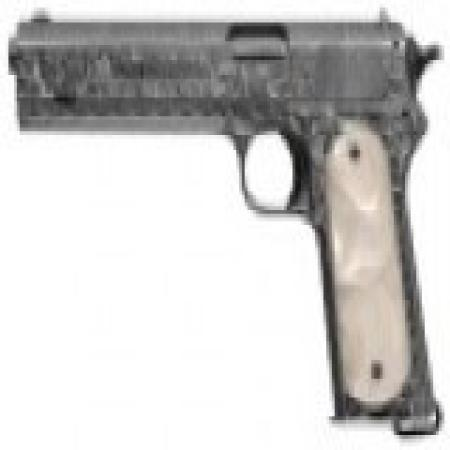Pistol: (11, 7, 441, 423)
